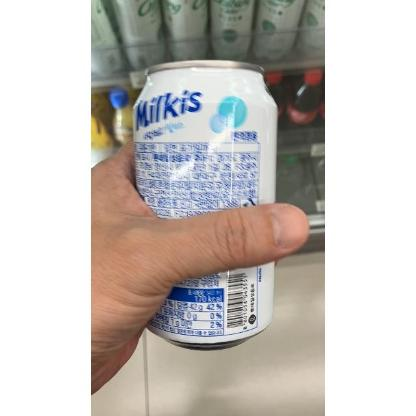Can: (130, 58, 282, 352)
